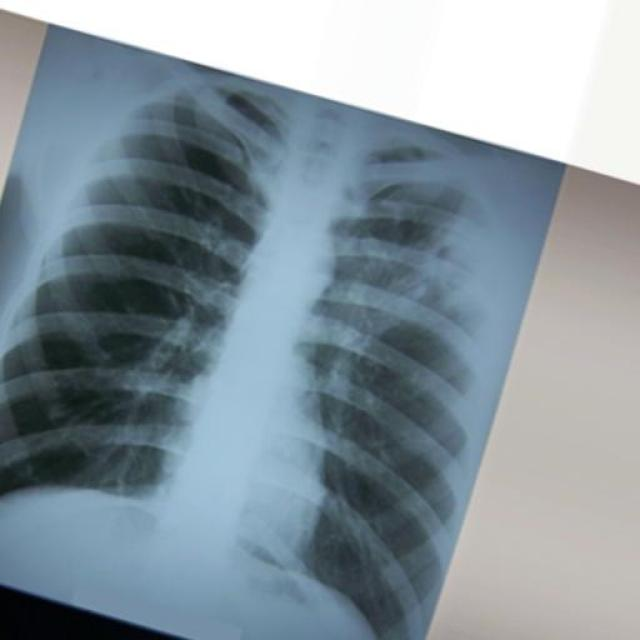tuberculosis: (0, 23, 570, 640)
